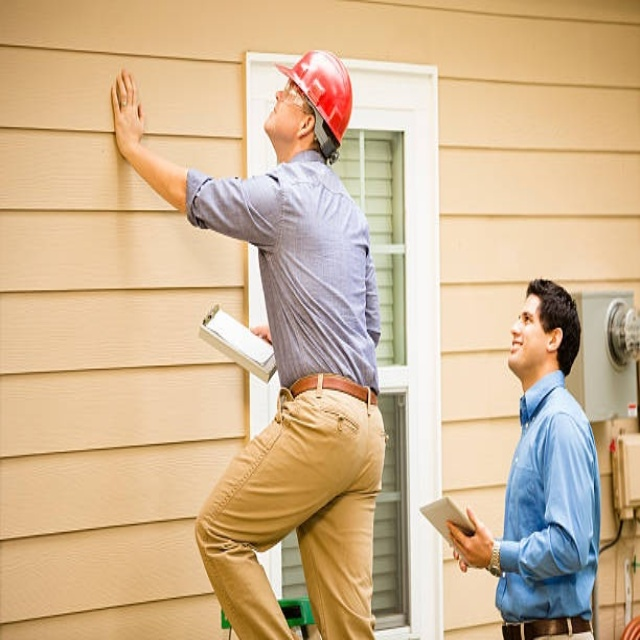Gafas: (271, 83, 306, 115)
Sin_gafas: (517, 309, 540, 334)
Sin_guantes: (446, 503, 495, 571), (108, 64, 145, 151)
Sin_mascara: (262, 102, 285, 133), (506, 336, 529, 367)
